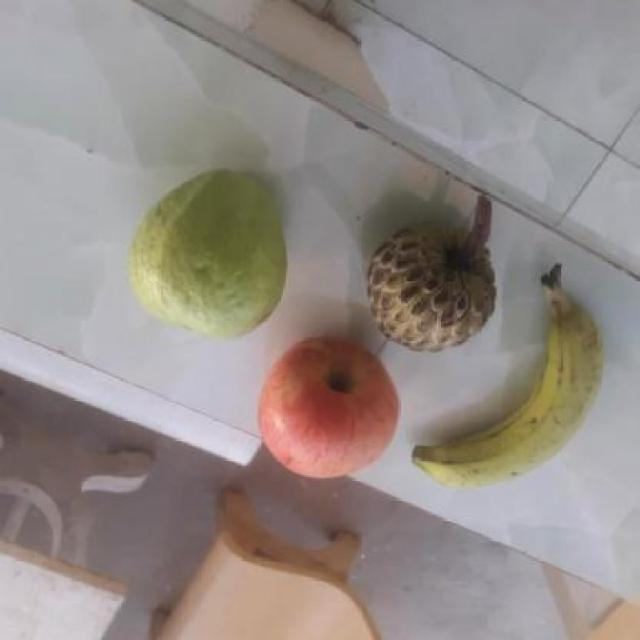apple: (248, 340, 403, 486)
banana: (411, 301, 608, 498)
guava: (120, 170, 282, 333)
sugar apple: (365, 213, 497, 353)
